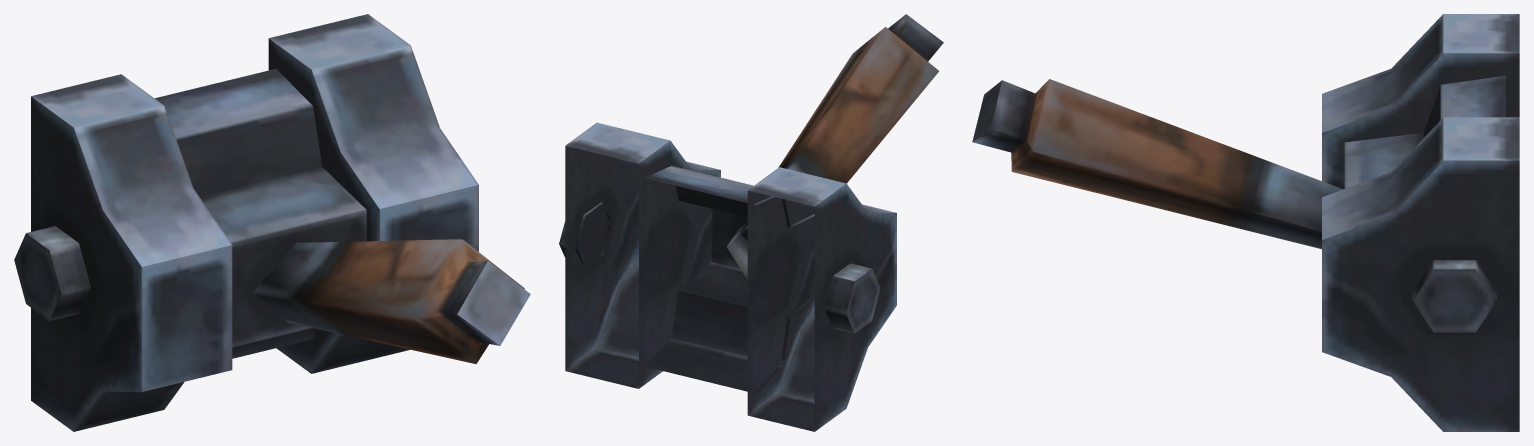
The model's file is mine_wall_lever01.fbx.
3 renders of one model, left to right at view 1: azimuth 30°, elevation 25°; view 2: azimuth 150°, elevation 25°; view 3: azimuth 270°, elevation 25°, orthographic. The views are drawn at different scales.
Visible parts, largest first — view 1: mine_wall_lever01; view 2: mine_wall_lever01; view 3: mine_wall_lever01.
Boxes of the visible parts, left/top/right/bottom form: mine_wall_lever01: left=14, top=14, right=530, bottom=431; mine_wall_lever01: left=559, top=14, right=943, bottom=431; mine_wall_lever01: left=972, top=14, right=1519, bottom=431.
Bounding box in the file's own units: 0.6425 × 0.4963 × 0.8813.
